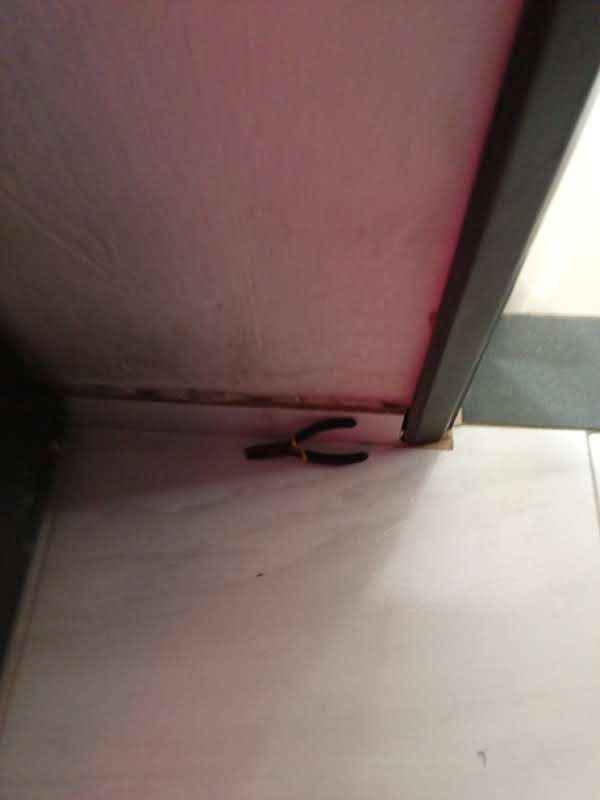Pinzas: (246, 417, 367, 465)
